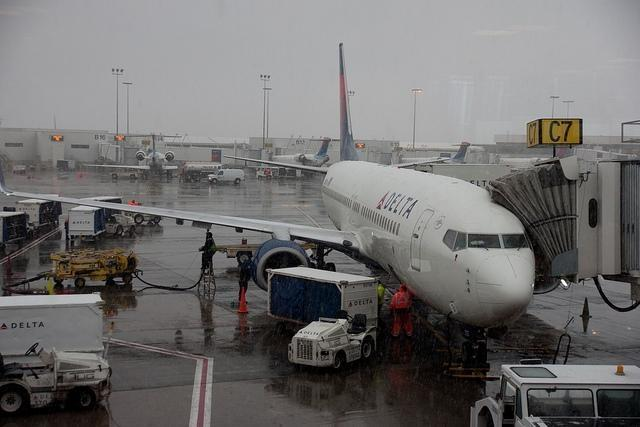truck: (266, 265, 379, 371), (468, 353, 640, 422), (15, 198, 63, 241), (186, 163, 228, 181), (104, 214, 136, 237), (207, 168, 246, 185), (14, 164, 26, 174)
